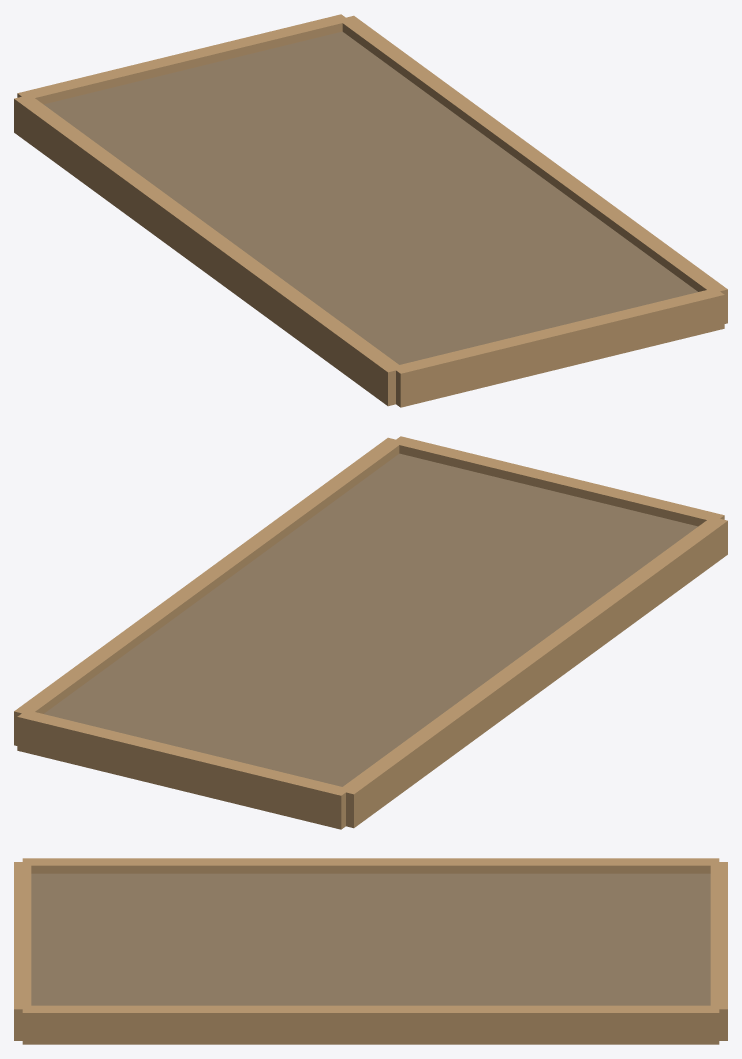
Rendered from cozy-farm-and-homestead-raised-field-bed-170243a9__19375.glb.
3 views of the same model, one above another, from view 1: azimuth 30°, elevation 25°; view 2: azimuth 150°, elevation 25°; view 3: azimuth 270°, elevation 25° (orthographic). The views are drawn at different scales.
Parts seen in each view (by area): view 1: raised-field-bed; view 2: raised-field-bed; view 3: raised-field-bed.
Part boxes in pixels (x1,y1,x2,y2): raised-field-bed: (14, 14, 727, 407); raised-field-bed: (14, 436, 727, 829); raised-field-bed: (14, 858, 727, 1044).
Size of the model in its own units: 2.1 by 0.2002 by 4.1.
